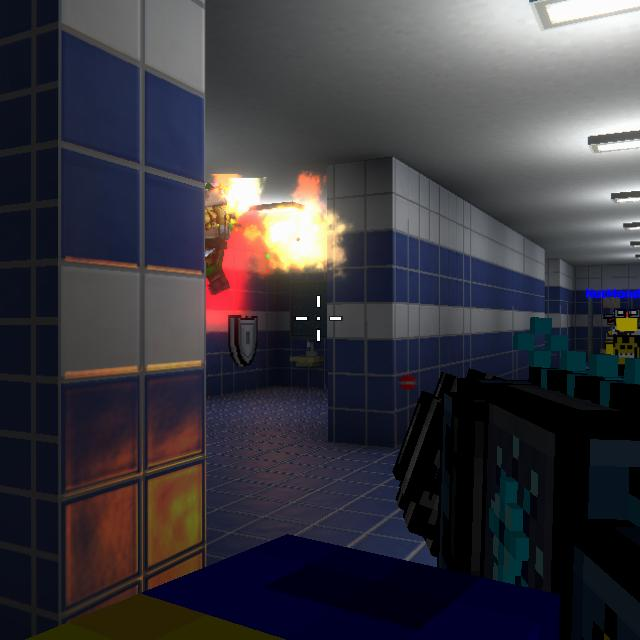Enemy: (204, 182, 237, 296)
